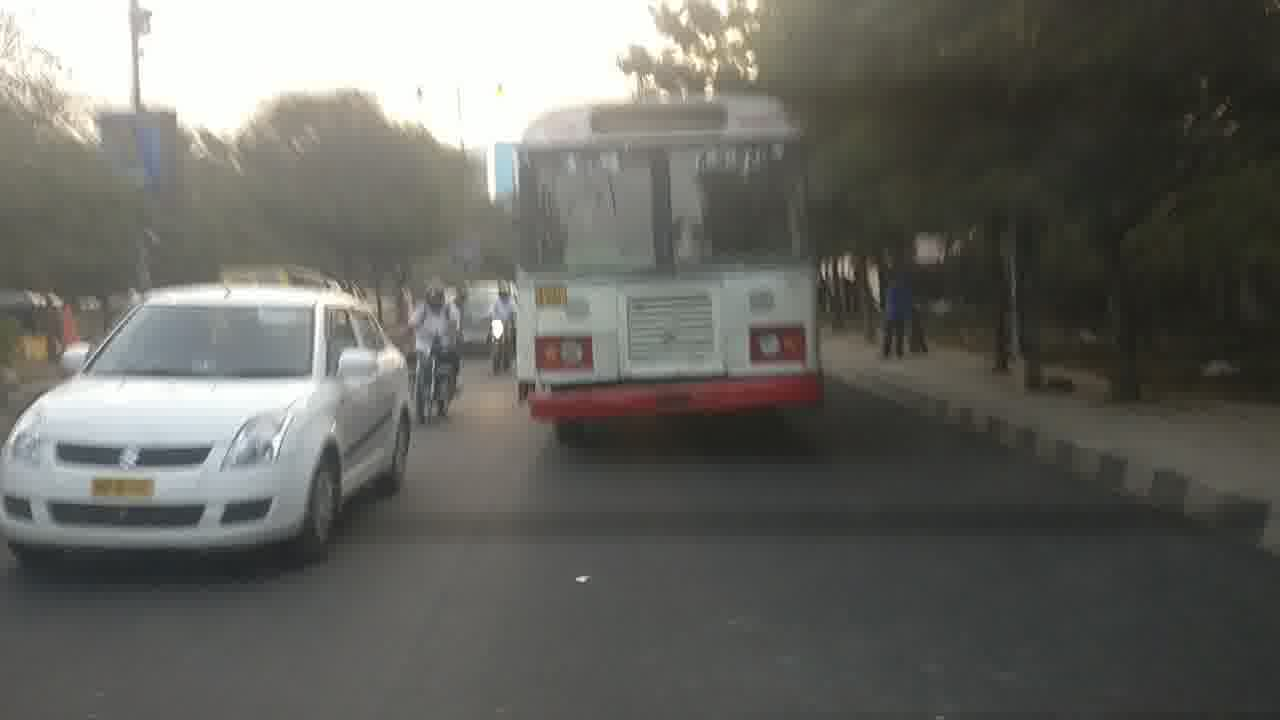swift desire: (9, 290, 409, 556)
